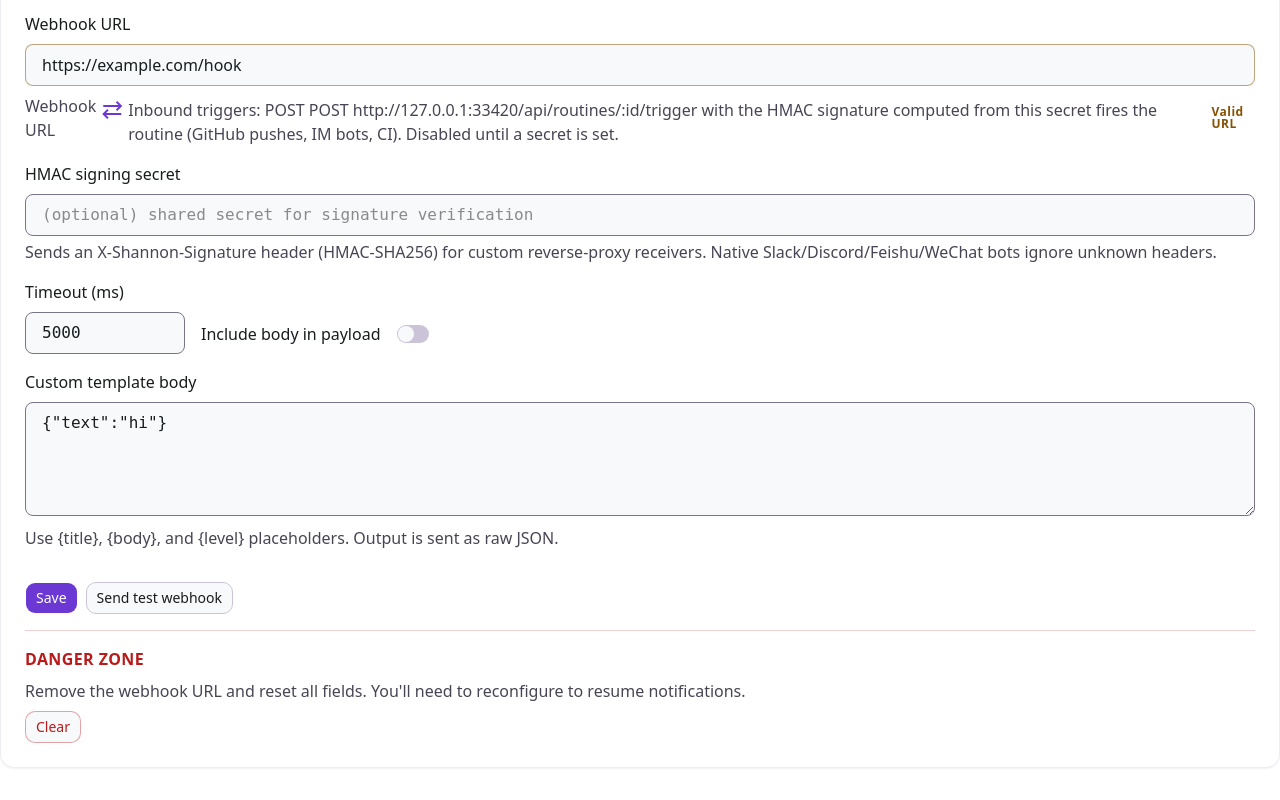
Test: NotificationsSettings — webhook save validation › blocks the save when the Custom body is cleared (no template wipe)
The width and height of the screenshot is (1280, 800).
(page scrolled)
Clear the text box labelled "Custom template body" at (640, 459), box x1=25 y1=402 x2=1255 y2=516
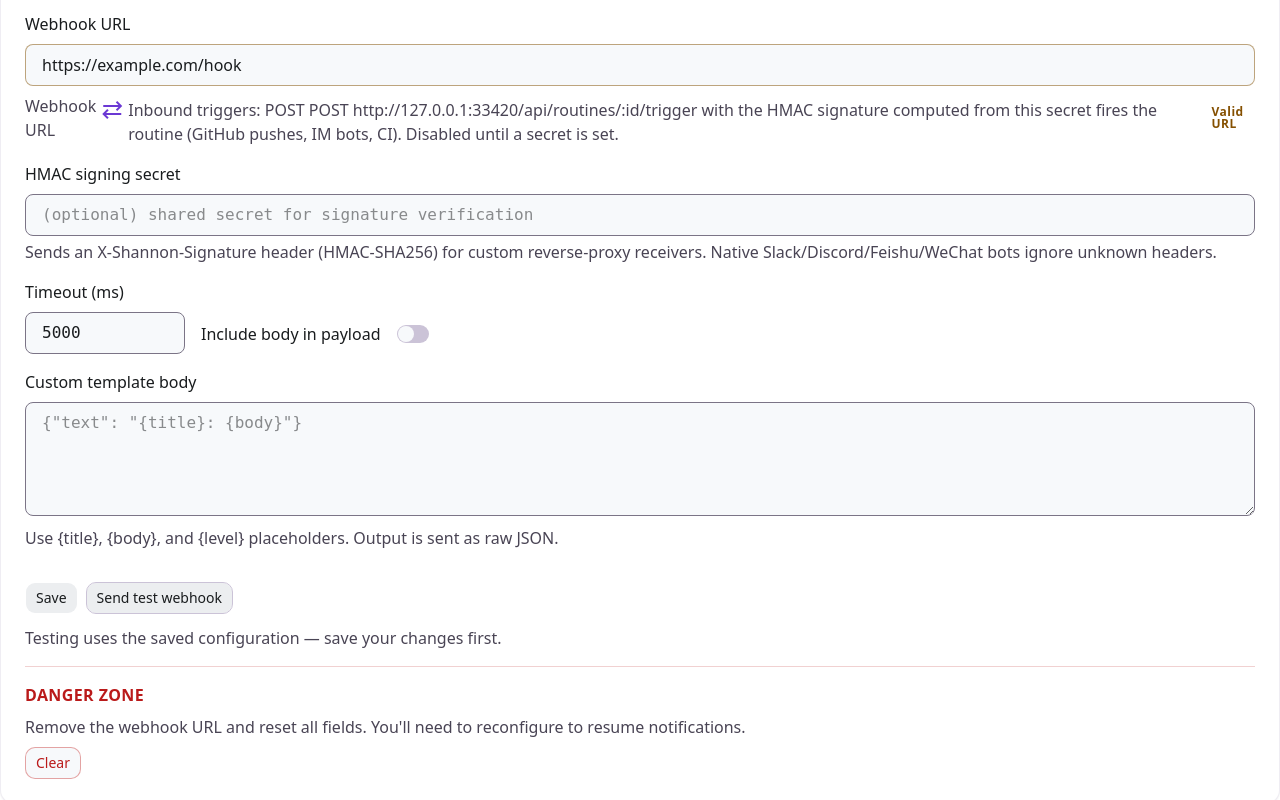
Expected: the button "Save" is disabled, x1=25 y1=582 x2=78 y2=614
